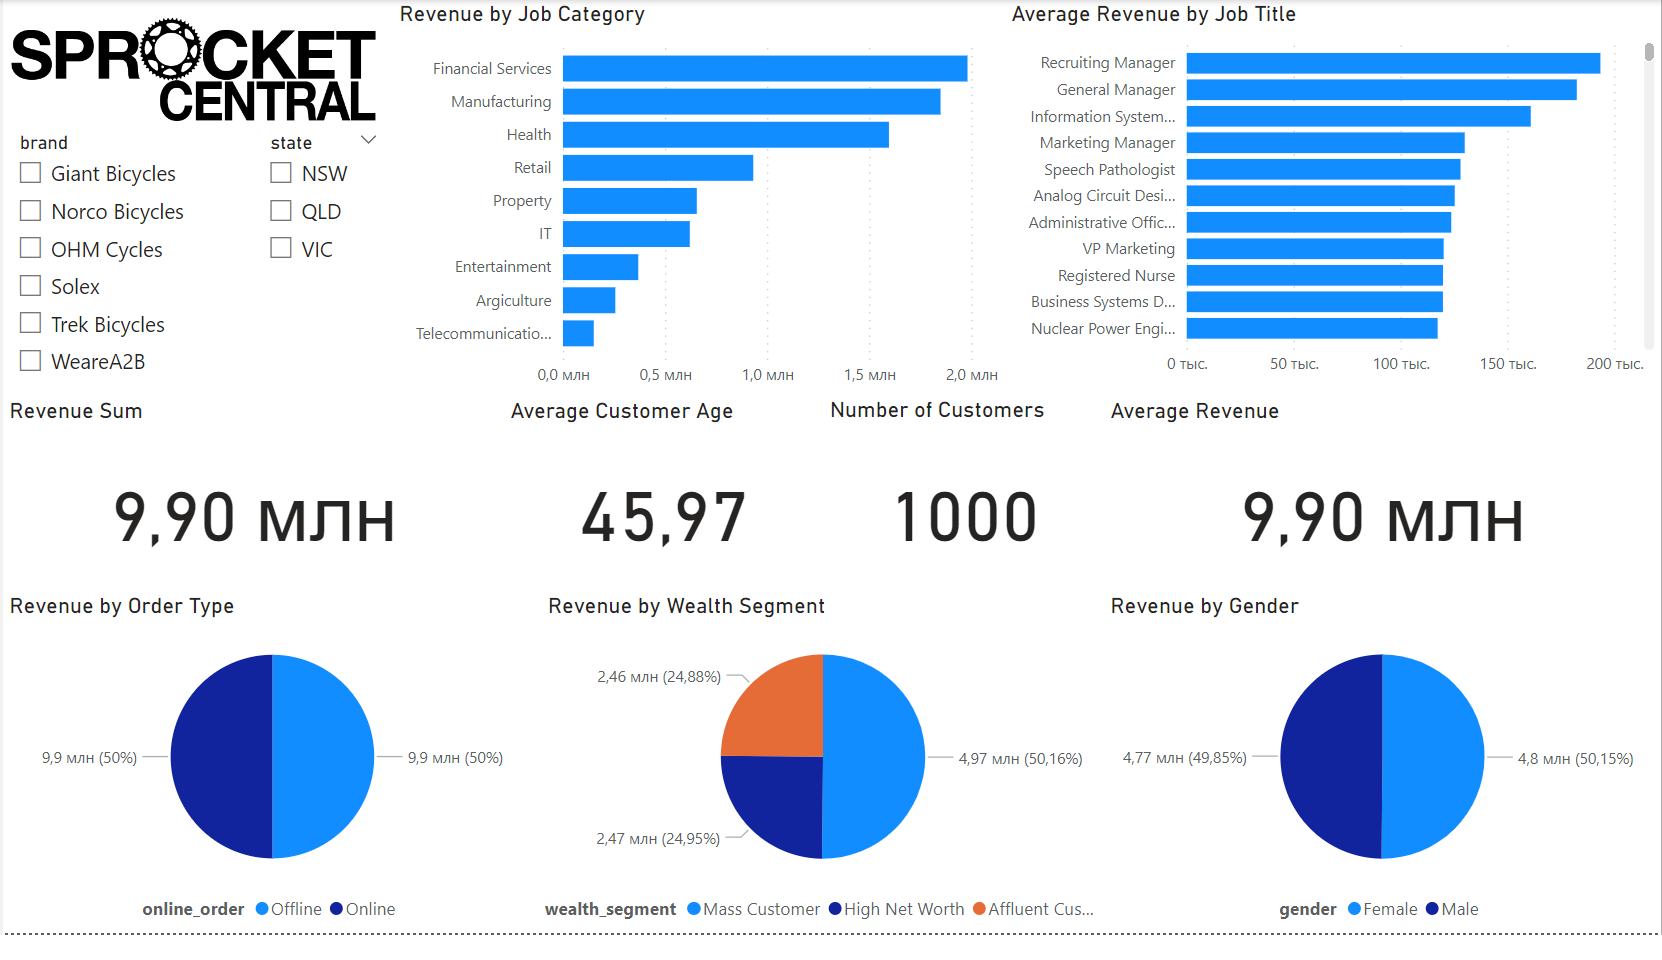

What the dashboard file says about the page in this screenshot:
{"tool":"powerbi","page":{"name":"Top 1000 Customers Revenue","canvas":[1280,720],"ordinal":0},"visuals":[{"type":"pieChart","title":"Revenue by Gender","fields":{"Category":["CustomerDemographic.gender"],"Y":["Sum(Top Customers.Revenue)"]},"box":[850,457.4,429.6,262.9],"z":0},{"type":"barChart","title":"Revenue by Job Category","fields":{"Category":["CustomerDemographic.job_industry_category"],"Y":["Sum(Top Customers.Revenue)"]},"box":[301.1,0,472.5,306.9],"z":1000},{"type":"barChart","title":"Average Revenue by Job Title","fields":{"Category":["CustomerDemographic.job_title"],"Y":["Sum(Top Customers.Revenue)"]},"box":[773.6,0,506.1,298.8],"z":2000},{"type":"slicer","fields":{"Values":["Transactions.brand"]},"box":[0,96.1,208.4,210.8],"z":3000},{"type":"card","title":"Revenue Sum","fields":{"Values":["Sum(Top Customers.Revenue)"]},"box":[0,306.9,386.8,150.5],"z":4000},{"type":"pieChart","title":"Revenue by Wealth Segment","fields":{"Category":["CustomerDemographic.wealth_segment"],"Y":["Sum(Top Customers.Revenue)"]},"box":[415.7,457.4,434.3,262.9],"z":5000},{"type":"pieChart","title":"Revenue by Order Type","fields":{"Category":["Transactions.online_order"],"Y":["Sum(Top Customers.Revenue)"]},"box":[0,457.4,415.7,262.9],"z":6000},{"type":"card","title":"Average Revenue","fields":{"Values":["Sum(Top Customers.Revenue)"]},"box":[850,306.9,429.6,150.5],"z":7000},{"type":"slicer","fields":{"Values":["CustomerAddress.state"]},"box":[193.4,96.1,107.7,210.8],"z":8000},{"type":"card","title":"Average Customer Age","fields":{"Values":["Avg(CustomerDemographic.Age)"]},"box":[386.8,306.9,246.7,150.5],"z":9000},{"type":"image","box":[0,0,301.1,126.2],"z":9001},{"type":"card","title":"Number of Customers","fields":{"Values":["CountNonNull(Top Customers.customer_id)"]},"box":[633.4,305.7,216.6,151.7],"z":9002}]}

Visuals, with their boxes in screenshot pixels (x1, y1, x2, y2), scaled from the page's 1280x720 canvas onto the 1662x960 screenshot:
"Revenue by Gender" pieChart: (x1=1104, y1=610, x2=1661, y2=959)
"Revenue by Job Category" barChart: (x1=391, y1=0, x2=1004, y2=409)
"Average Revenue by Job Title" barChart: (x1=1004, y1=0, x2=1661, y2=398)
slicer - Transactions.brand: (x1=0, y1=128, x2=271, y2=409)
"Revenue Sum" card: (x1=0, y1=409, x2=502, y2=610)
"Revenue by Wealth Segment" pieChart: (x1=540, y1=610, x2=1104, y2=959)
"Revenue by Order Type" pieChart: (x1=0, y1=610, x2=540, y2=959)
"Average Revenue" card: (x1=1104, y1=409, x2=1661, y2=610)
slicer - CustomerAddress.state: (x1=251, y1=128, x2=391, y2=409)
"Average Customer Age" card: (x1=502, y1=409, x2=823, y2=610)
image: (x1=0, y1=0, x2=391, y2=168)
"Number of Customers" card: (x1=822, y1=408, x2=1104, y2=610)
